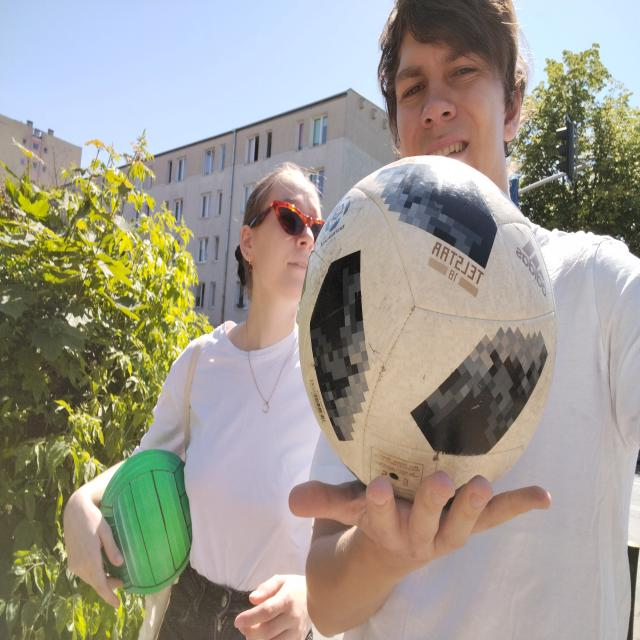nozna: (298, 154, 559, 507)
zielona: (98, 449, 192, 593)
